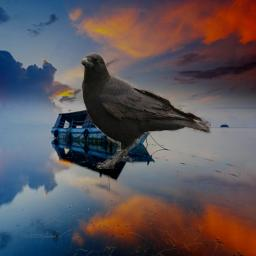Crow: (81, 52, 211, 169)
